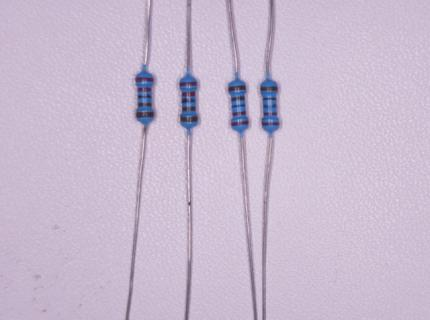Black band: (263, 103, 277, 109), (182, 98, 196, 103), (137, 95, 152, 99), (231, 104, 245, 108)
Brown band: (228, 84, 246, 92), (136, 112, 154, 119), (261, 86, 278, 92), (181, 117, 198, 122), (182, 106, 196, 112), (232, 96, 245, 102), (262, 97, 277, 102), (138, 102, 152, 107)
Red band: (135, 77, 154, 82), (231, 121, 248, 126), (182, 91, 195, 97), (261, 122, 280, 126), (180, 82, 198, 86), (232, 111, 246, 116), (137, 88, 152, 92), (263, 112, 277, 116)
